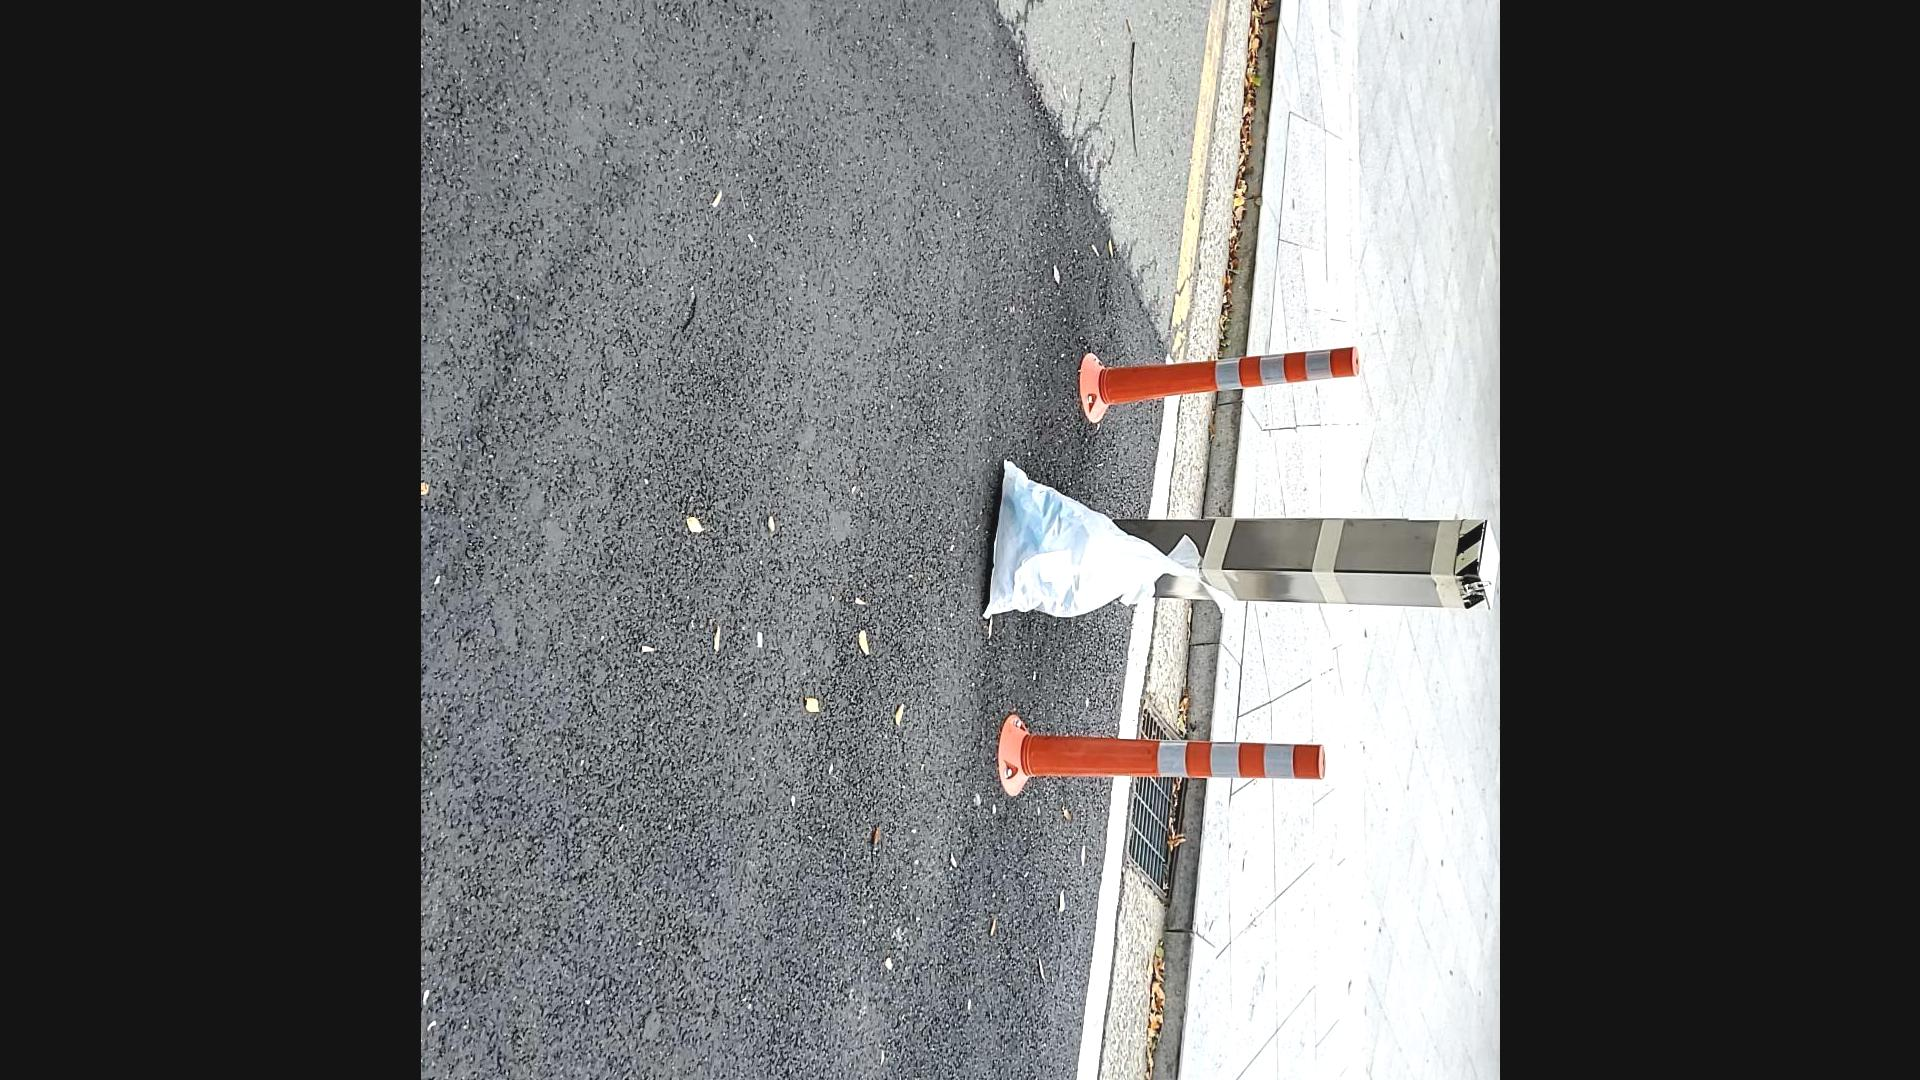white_bag: (967, 443, 1250, 636)
